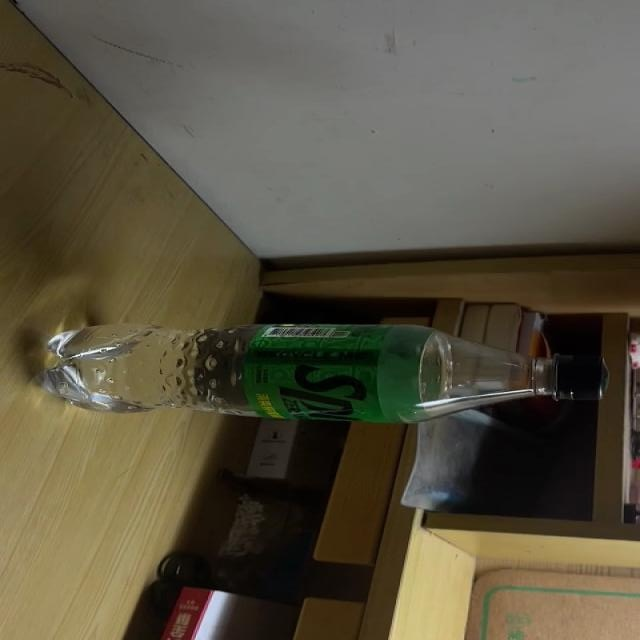Sprite: (29, 321, 609, 425)
